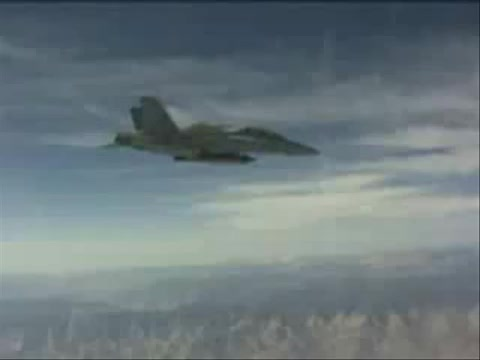aeroplane: (114, 96, 323, 167)
